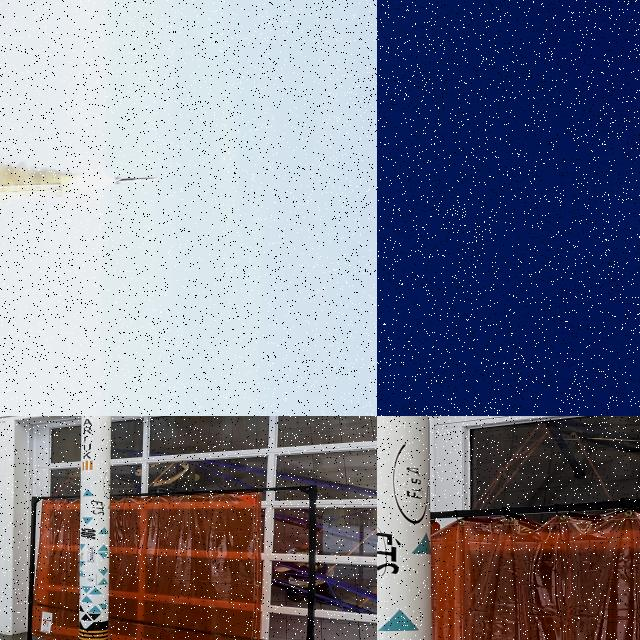Rocket: (377, 416, 432, 640), (79, 416, 111, 640), (115, 176, 159, 185)
